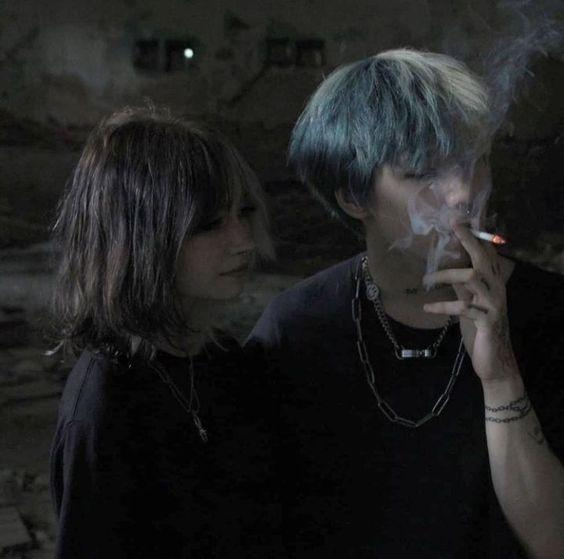cigarette: (469, 228, 506, 244)
